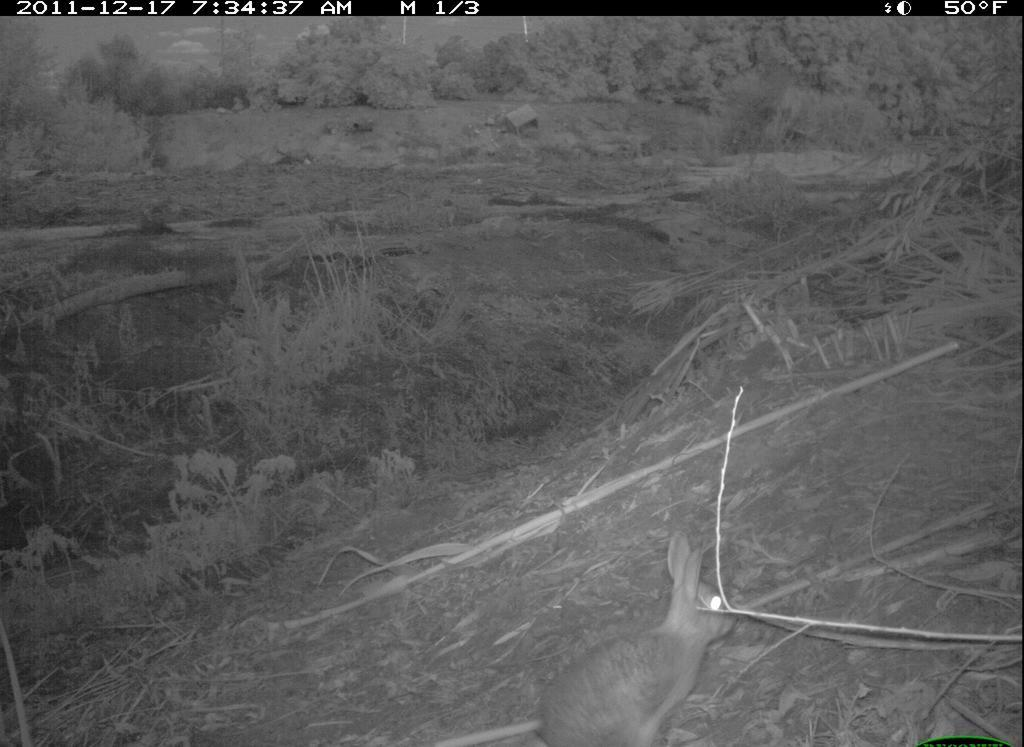rabbit: (511, 529, 742, 747)
